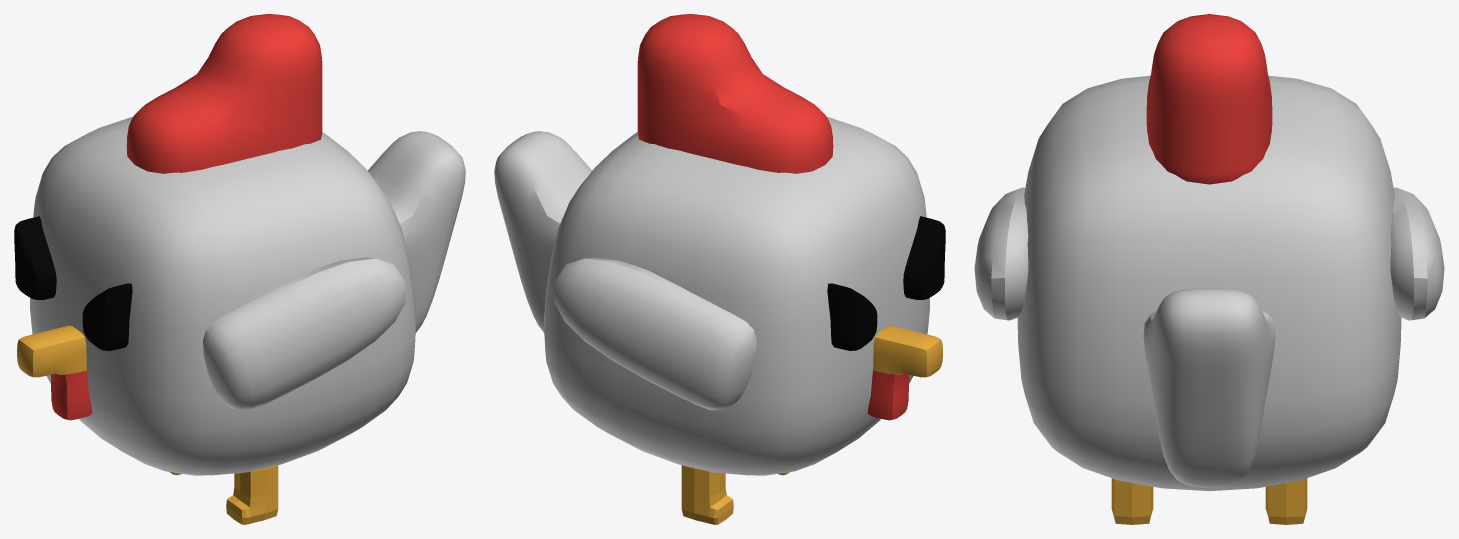
The model's file is enemy1.fbx.
3 renders of one model, left to right at view 1: azimuth 30°, elevation 25°; view 2: azimuth 150°, elevation 25°; view 3: azimuth 270°, elevation 25°, orthographic. The views are drawn at different scales.
Parts seen in each view (by area): view 1: Cubo.188, Cubo.226, Cubo.192, Cubo.189, Cubo.225, Cubo.193, Cubo.190; view 2: Cubo.188, Cubo.226, Cubo.192, Cubo.189, Cubo.225, Cubo.193, Cubo.190; view 3: Cubo.188, Cubo.189, Cubo.226, Cubo.192, Cubo.190.
Part boxes in pixels (x1,y1,x2,y2): Cubo.188: [30, 117, 416, 475]; Cubo.226: [126, 14, 322, 173]; Cubo.192: [203, 257, 405, 410]; Cubo.189: [367, 131, 465, 332]; Cubo.225: [14, 216, 132, 350]; Cubo.193: [17, 325, 92, 420]; Cubo.190: [169, 465, 278, 524]; Cubo.188: [543, 117, 929, 475]; Cubo.226: [637, 14, 833, 173]; Cubo.192: [554, 257, 756, 410]; Cubo.189: [494, 131, 592, 332]; Cubo.225: [827, 216, 945, 350]; Cubo.193: [867, 325, 942, 420]; Cubo.190: [681, 465, 790, 524]; Cubo.188: [1017, 75, 1401, 491]; Cubo.189: [1143, 288, 1275, 487]; Cubo.226: [1146, 14, 1272, 184]; Cubo.192: [974, 187, 1444, 320]; Cubo.190: [1111, 478, 1307, 524].
Bounding box in the file's own units: 112 × 114 × 93.01.
